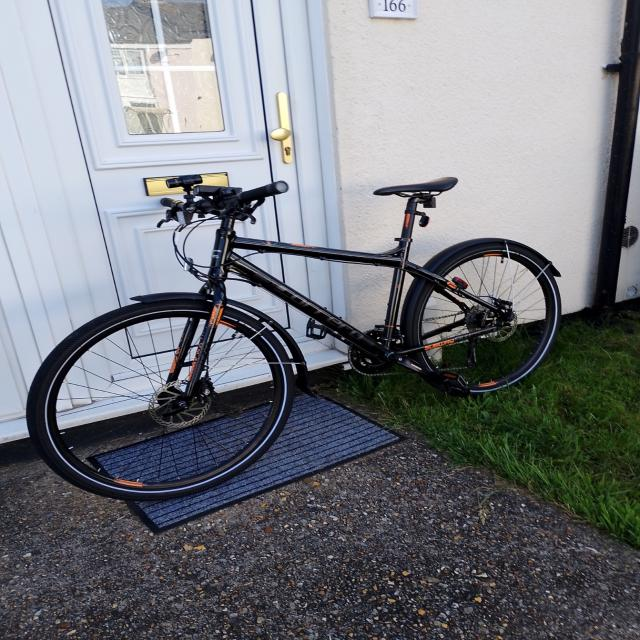bicycle: (25, 173, 562, 502)
